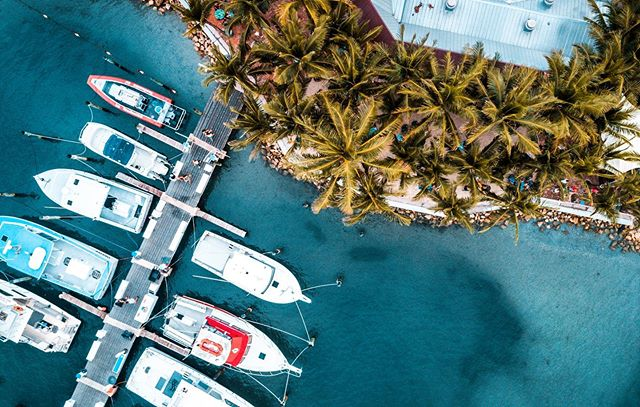boat: (150, 284, 308, 386), (31, 156, 154, 250), (188, 225, 319, 313), (1, 209, 131, 297), (90, 70, 188, 136), (81, 119, 176, 185)
sea: (293, 201, 640, 407)
vegetation: (224, 1, 621, 208)
